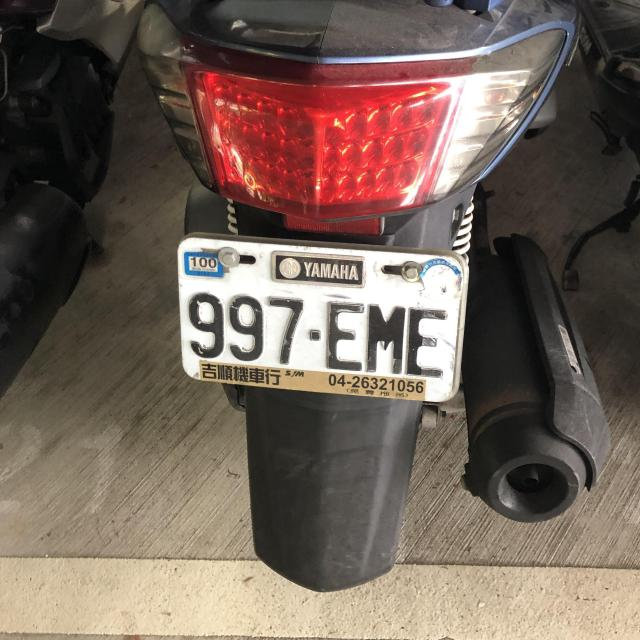W: (167, 230, 467, 406)
